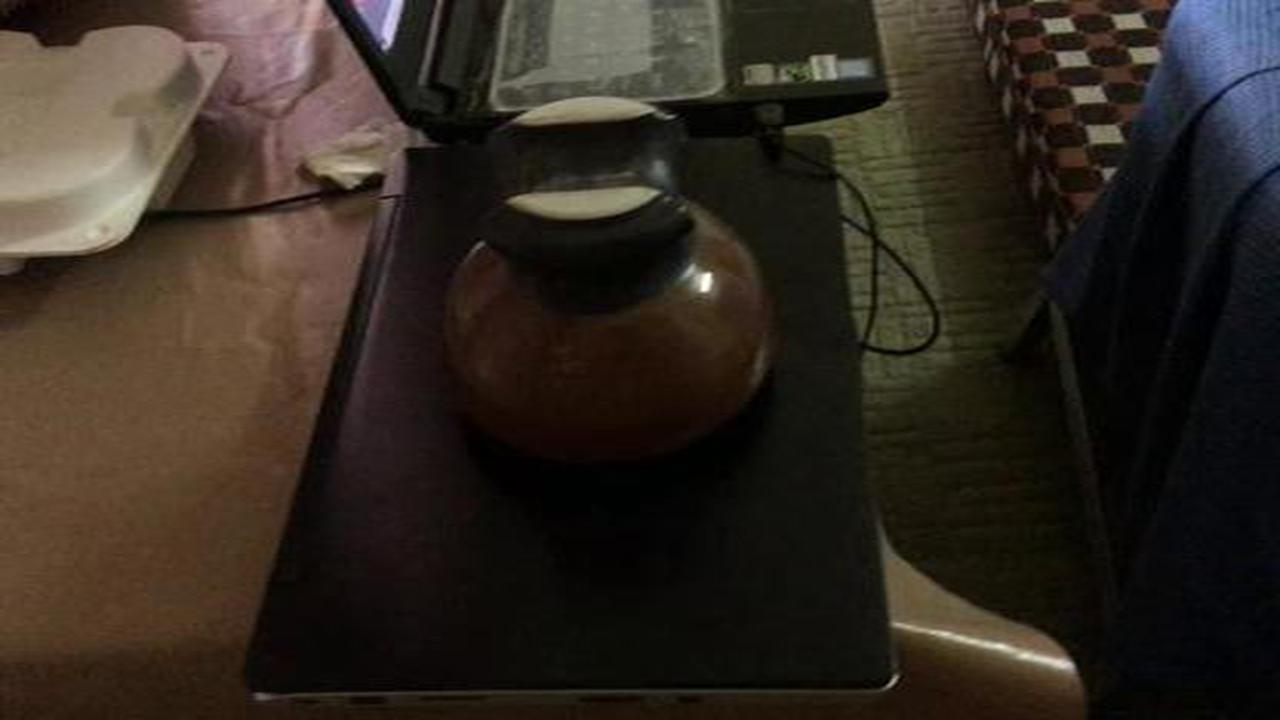insulator_pin: (409, 87, 788, 490)
